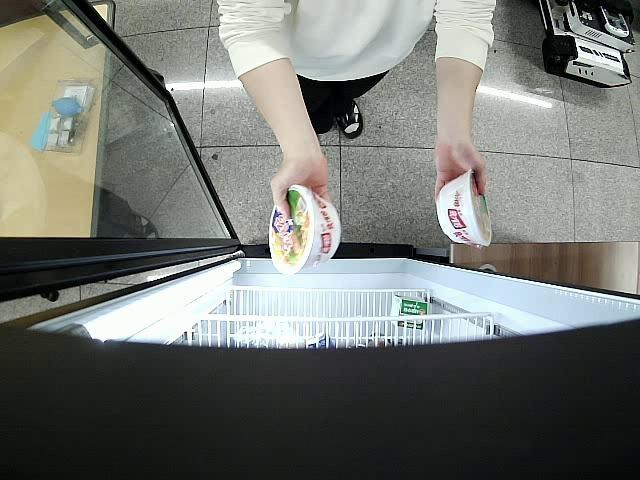09_yukGaeJang: (268, 186, 341, 274), (436, 169, 492, 246)
